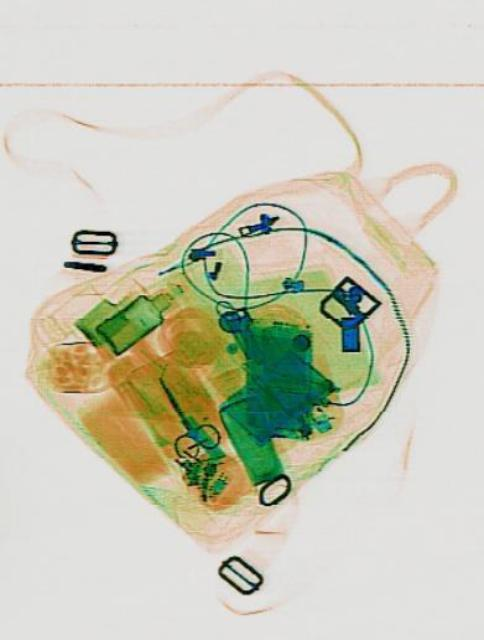Scissors: (139, 360, 222, 470)
